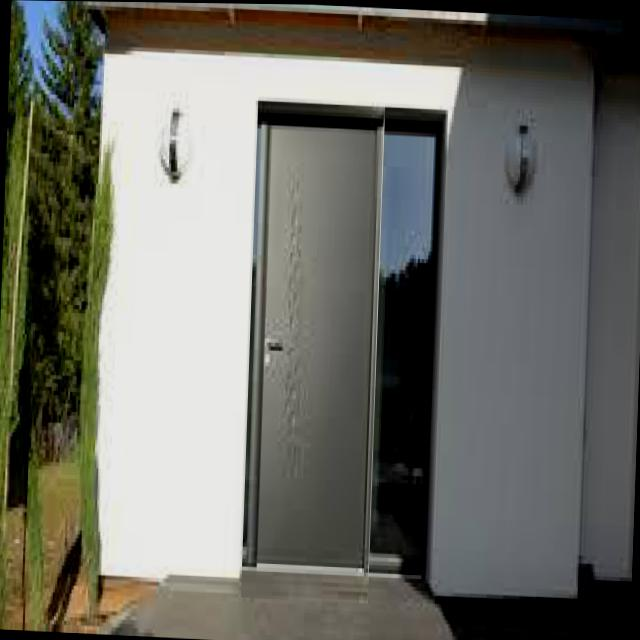close: (240, 84, 386, 603)
